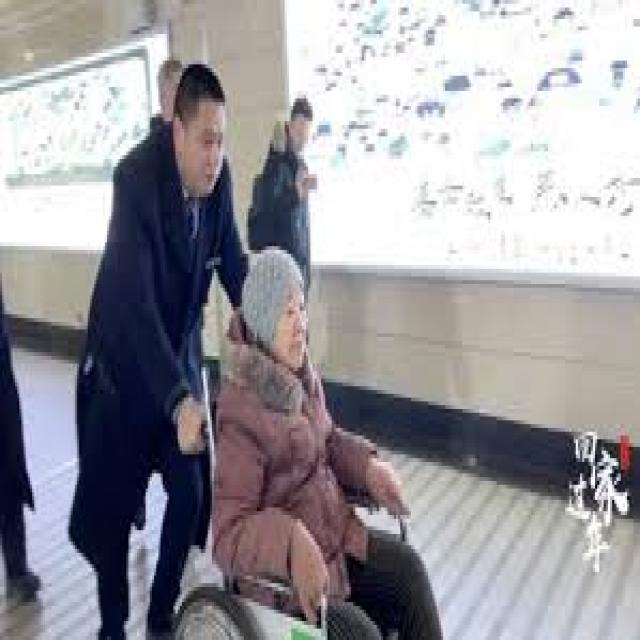wheelchairs: (158, 356, 441, 636)
